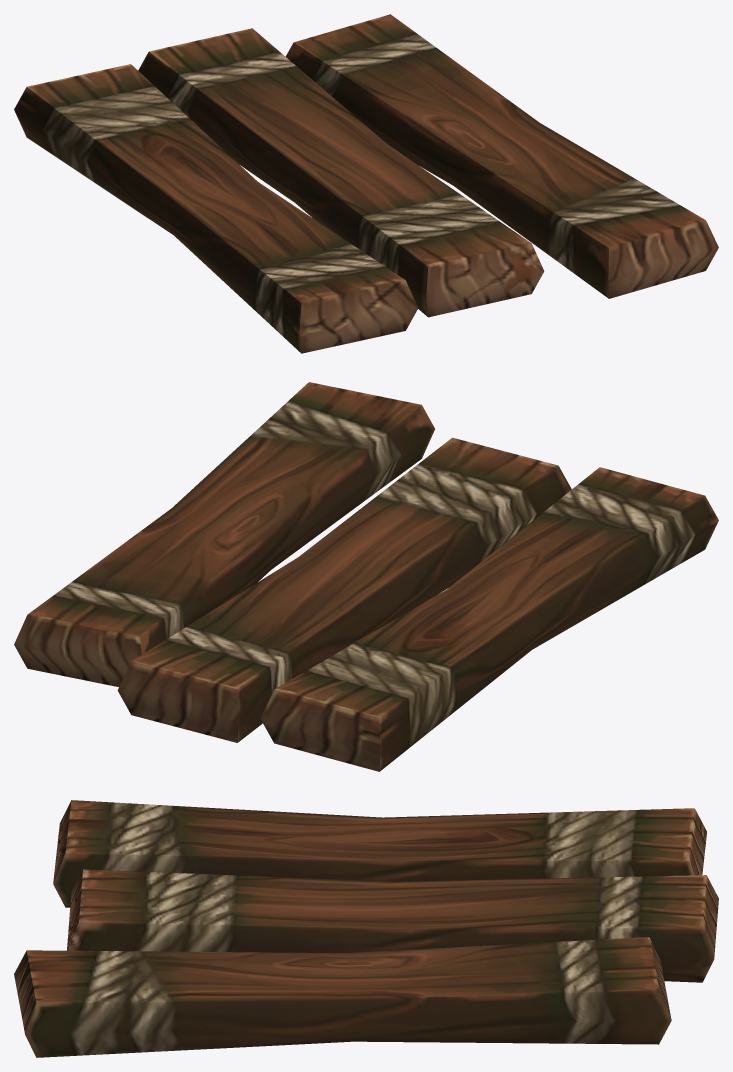
Rendered from rope_bridge_module03.fbx.
3 renders of one model, top to bottom at view 1: azimuth 30°, elevation 25°; view 2: azimuth 150°, elevation 25°; view 3: azimuth 270°, elevation 25°, orthographic. The views are drawn at different scales.
Parts seen in each view (by area): view 1: rope_bridge_module03; view 2: rope_bridge_module03; view 3: rope_bridge_module03.
Boxes of the visible parts, x1,y1,x2,y2 form: rope_bridge_module03: (14,14,718,353); rope_bridge_module03: (14,382,718,771); rope_bridge_module03: (14,800,718,1057).
Size of the model in its own units: 101 by 12.17 by 143.
